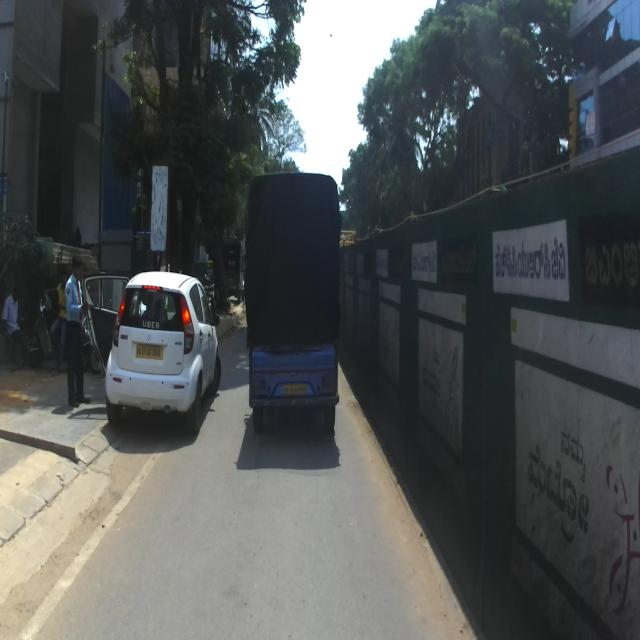car ahead at: (107, 266, 226, 442)
person ahead at: (64, 256, 89, 407)
truck ahead at: (245, 167, 346, 448)
